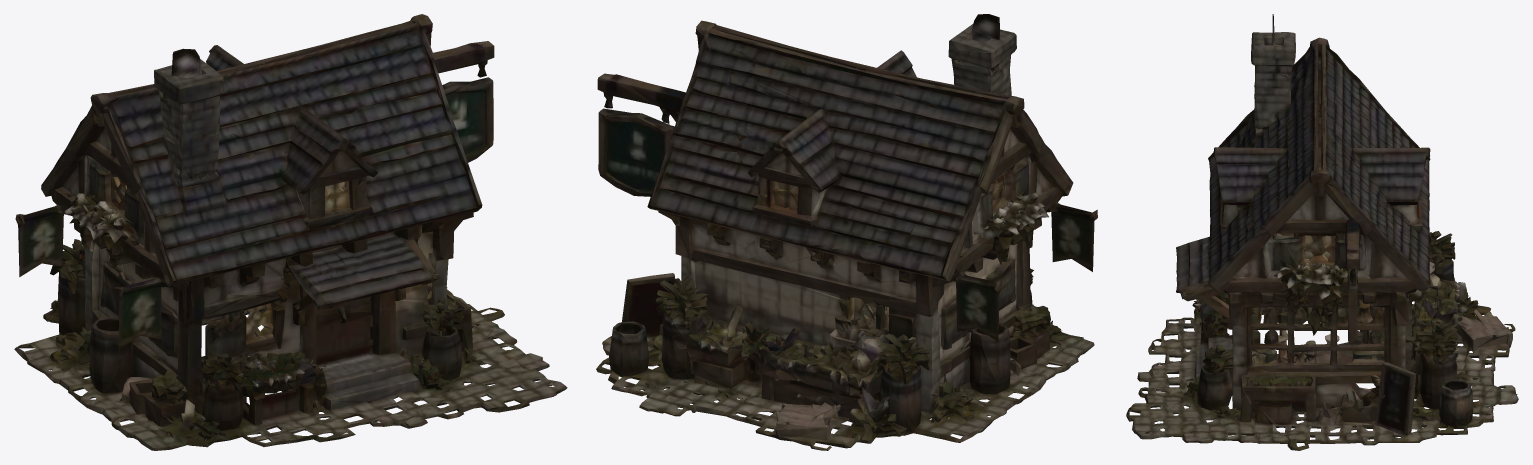
File: war_apothecary_01.glb
3 views of the same model, side by side, from view 1: azimuth 30°, elevation 25°; view 2: azimuth 150°, elevation 25°; view 3: azimuth 270°, elevation 25° (orthographic). The views are drawn at different scales.
Parts seen in each view (by area): view 1: geometry_0; view 2: geometry_0; view 3: geometry_0.
Part boxes in pixels (left/top/right/bottom): geometry_0: left=14, top=14, right=567, bottom=450; geometry_0: left=596, top=14, right=1097, bottom=450; geometry_0: left=1126, top=14, right=1518, bottom=450.
Bounding box in the file's own units: 0.9989 × 0.7744 × 0.9135.
Materials: 1 (1 with a texture image).
